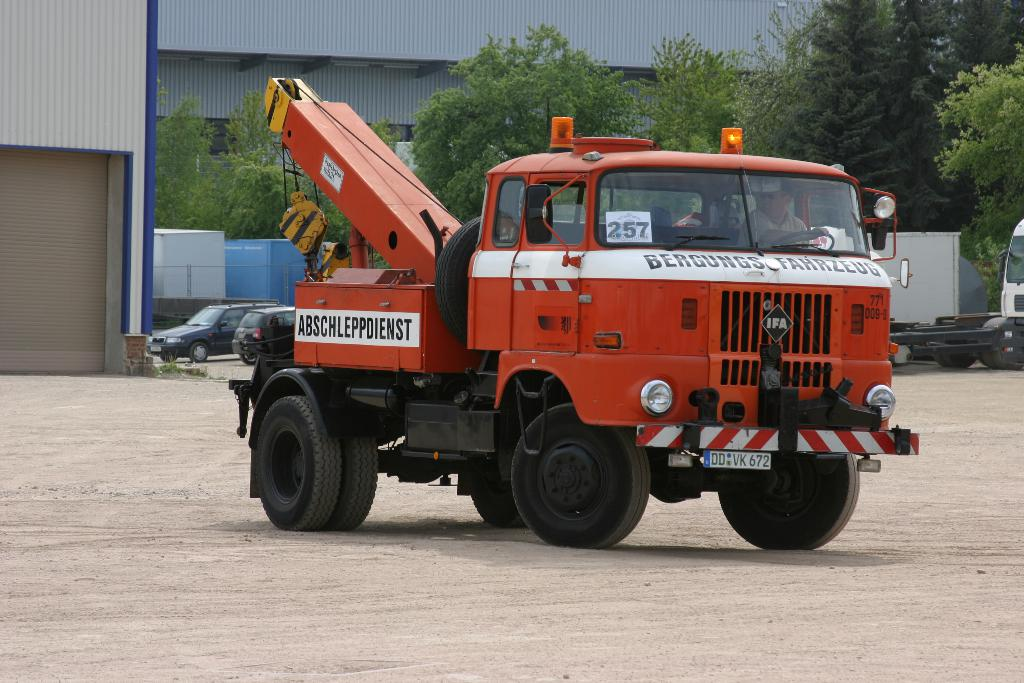Car: (135, 297, 253, 363), (231, 299, 294, 360)
